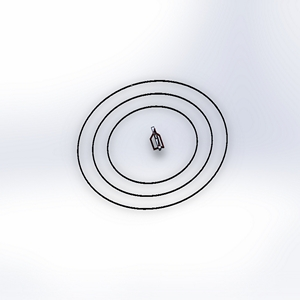circle: (67, 72, 233, 216)
submarine: (142, 124, 173, 161)
